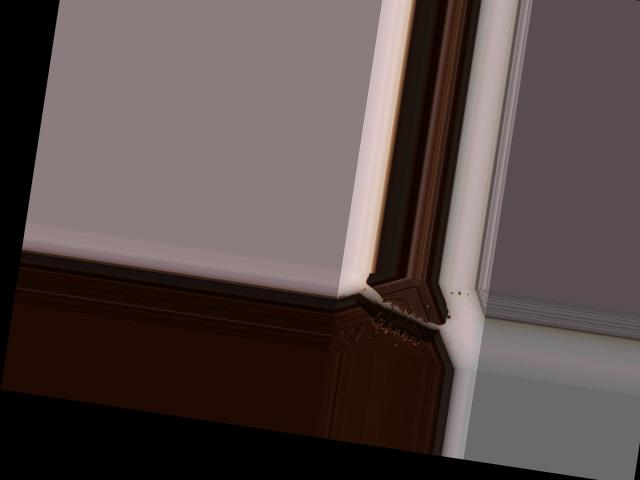chocolate: (330, 267, 468, 367)
